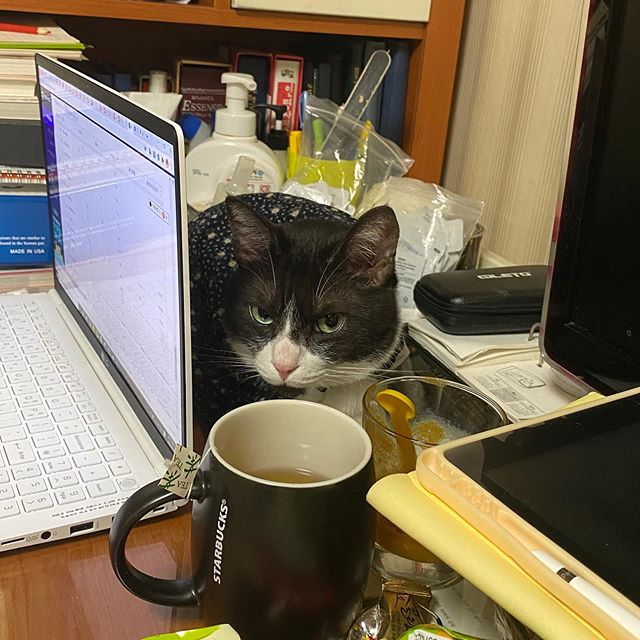cat: (209, 184, 420, 395)
